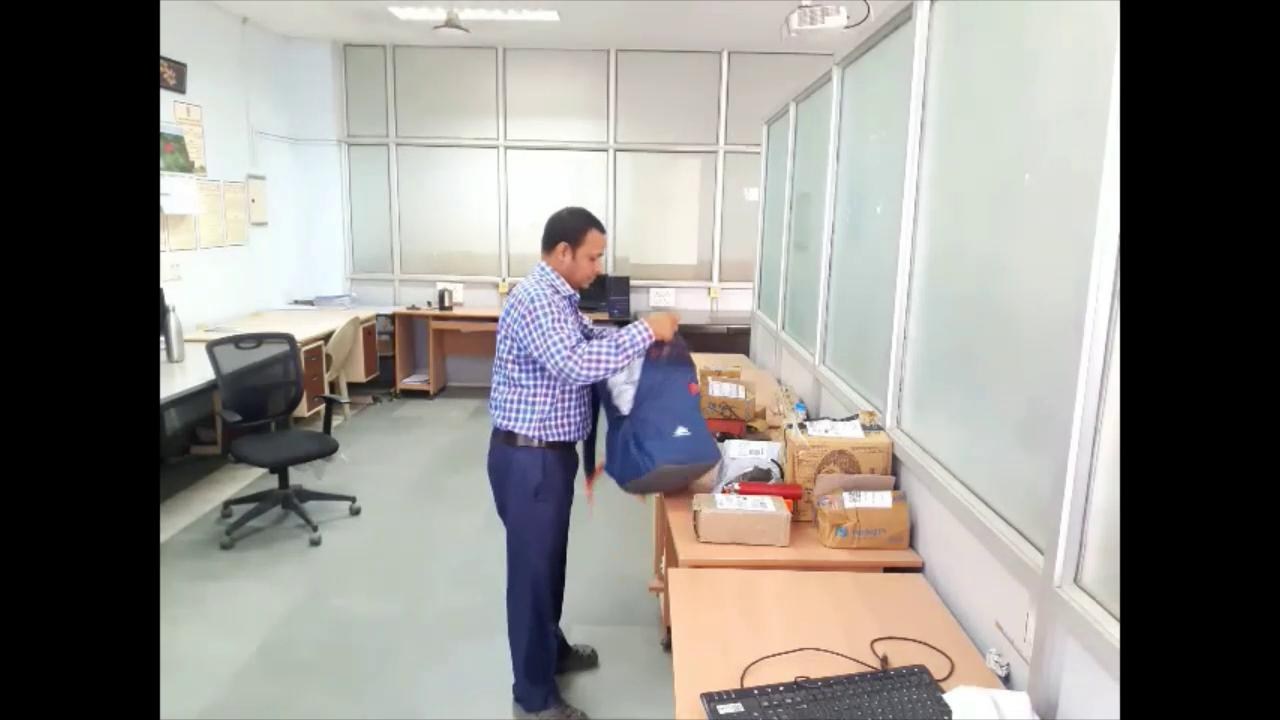shoplifting: (479, 197, 721, 719)
